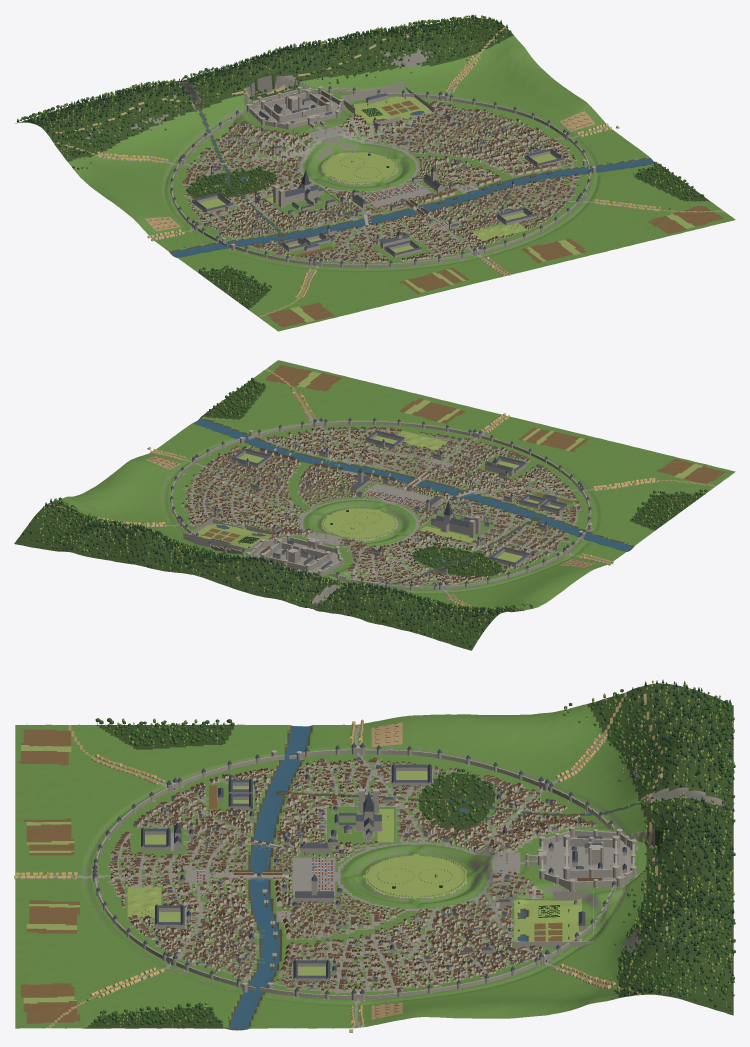
The model's file is stonehallow_preview.glb.
3 views of the same model, one above another, from view 1: azimuth 30°, elevation 25°; view 2: azimuth 150°, elevation 25°; view 3: azimuth 270°, elevation 25° (orthographic). The views are drawn at different scales.
Visible parts, largest first — view 1: Terrain, Trees - The Royal Forest, River Wend, WALL-04 City wall, Trees - Elderwood, Trees - King's Park, WALL-07 Queen's Gardens wall, Trees - Thornwood, Minster close - houses in square F9, WALL-01 Crownhold outer curtain, WALL-05 City wall, WALL-02 Crownhold inner curtain; view 2: Terrain, Trees - The Royal Forest, River Wend, WALL-04 City wall, Trees - Elderwood, Trees - King's Park, Trees - Thornwood, WALL-07 Queen's Gardens wall, Minster close - houses in square F9, WALL-02 Crownhold inner curtain, WALL-01 Crownhold outer curtain, Market quarter - houses in square J10; view 3: Terrain, Trees - The Royal Forest, River Wend, WALL-04 City wall, Trees - Elderwood, Trees - King's Park, Trees - Thornwood, WALL-05 City wall, WALL-01 Crownhold outer curtain, Market quarter - houses in square J10, Minster close - houses in square F9, WALL-07 Queen's Gardens wall (+35 smaller).
Part boxes in pixels (x1,y1,x2,y2): Terrain: [15, 17, 735, 331]; Trees - The Royal Forest: [16, 14, 511, 158]; River Wend: [170, 158, 654, 257]; WALL-04 City wall: [171, 110, 590, 267]; Trees - Elderwood: [198, 265, 271, 307]; Trees - King's Park: [187, 166, 277, 196]; WALL-07 Queen's Gardens wall: [340, 81, 434, 124]; Trees - Thornwood: [633, 161, 704, 200]; Minster close - houses in square F9: [285, 170, 336, 210]; WALL-01 Crownhold outer curtain: [249, 89, 341, 128]; WALL-05 City wall: [331, 88, 562, 135]; WALL-02 Crownhold inner curtain: [264, 92, 326, 121]; Terrain: [14, 360, 735, 650]; Trees - The Royal Forest: [17, 497, 522, 647]; River Wend: [193, 418, 633, 551]; WALL-04 City wall: [198, 421, 590, 589]; Trees - Elderwood: [632, 489, 707, 528]; Trees - King's Park: [413, 542, 501, 574]; Trees - Thornwood: [206, 377, 265, 418]; WALL-07 Queen's Gardens wall: [183, 517, 275, 549]; Minster close - houses in square F9: [431, 501, 473, 535]; WALL-02 Crownhold inner curtain: [265, 542, 327, 570]; WALL-01 Crownhold outer curtain: [250, 537, 340, 576]; Market quarter - houses in square J10: [336, 468, 376, 493]; Terrain: [15, 683, 733, 1030]; Trees - The Royal Forest: [591, 679, 735, 1010]; River Wend: [228, 726, 310, 1029]; WALL-04 City wall: [95, 749, 614, 999]; Trees - Elderwood: [95, 718, 234, 748]; Trees - King's Park: [418, 768, 496, 829]; Trees - Thornwood: [93, 1001, 222, 1027]; WALL-05 City wall: [365, 886, 614, 999]; WALL-01 Crownhold outer curtain: [541, 830, 634, 889]; Market quarter - houses in square J10: [284, 874, 333, 915]; Minster close - houses in square F9: [331, 791, 381, 840]; WALL-07 Queen's Gardens wall: [514, 891, 593, 949].
Bounding box in the file's own units: 2089 × 174 × 2059.
